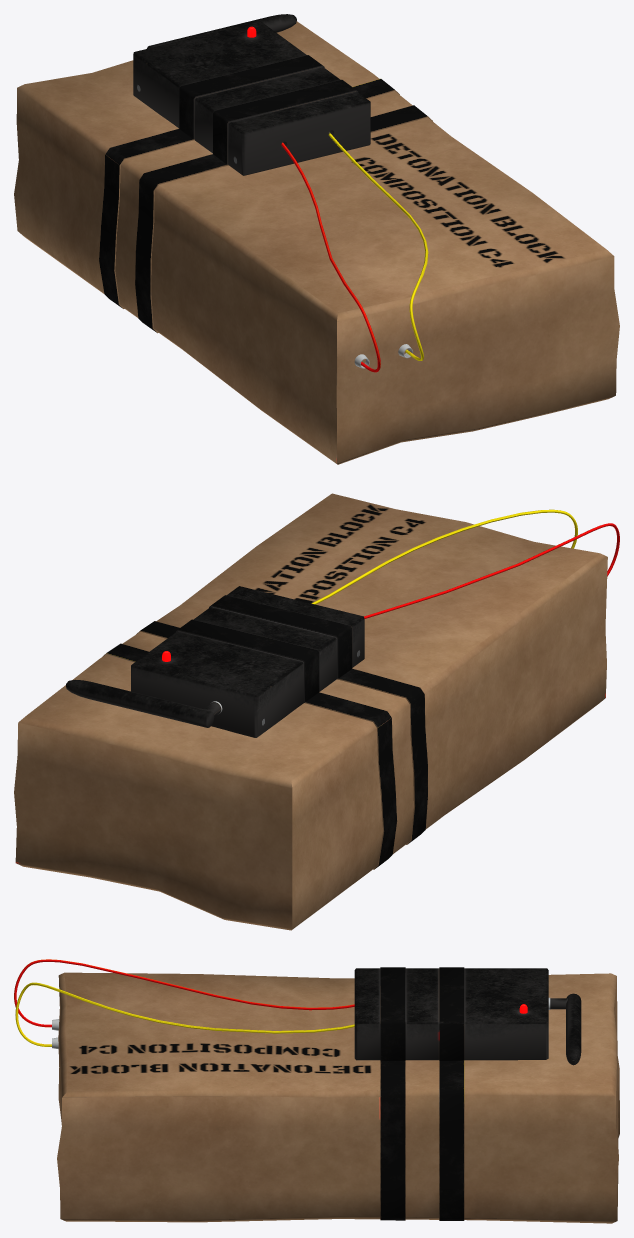
The model's file is c4-view.glb.
3 renders of one model, top to bottom at view 1: azimuth 30°, elevation 25°; view 2: azimuth 150°, elevation 25°; view 3: azimuth 270°, elevation 25°, orthographic. The views are drawn at different scales.
Parts seen in each view (by area): view 1: C4; view 2: C4; view 3: C4.
Boxes of the visible parts, x1,y1,x2,y2 form: C4: (14, 14, 619, 464); C4: (14, 493, 619, 930); C4: (14, 959, 619, 1223).
Bounding box in the file's own units: 0.1058 × 0.0725 × 0.22.
Materials: 1 (1 with a texture image).
